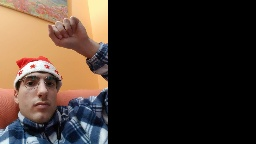Pugno: (45, 14, 89, 48)
